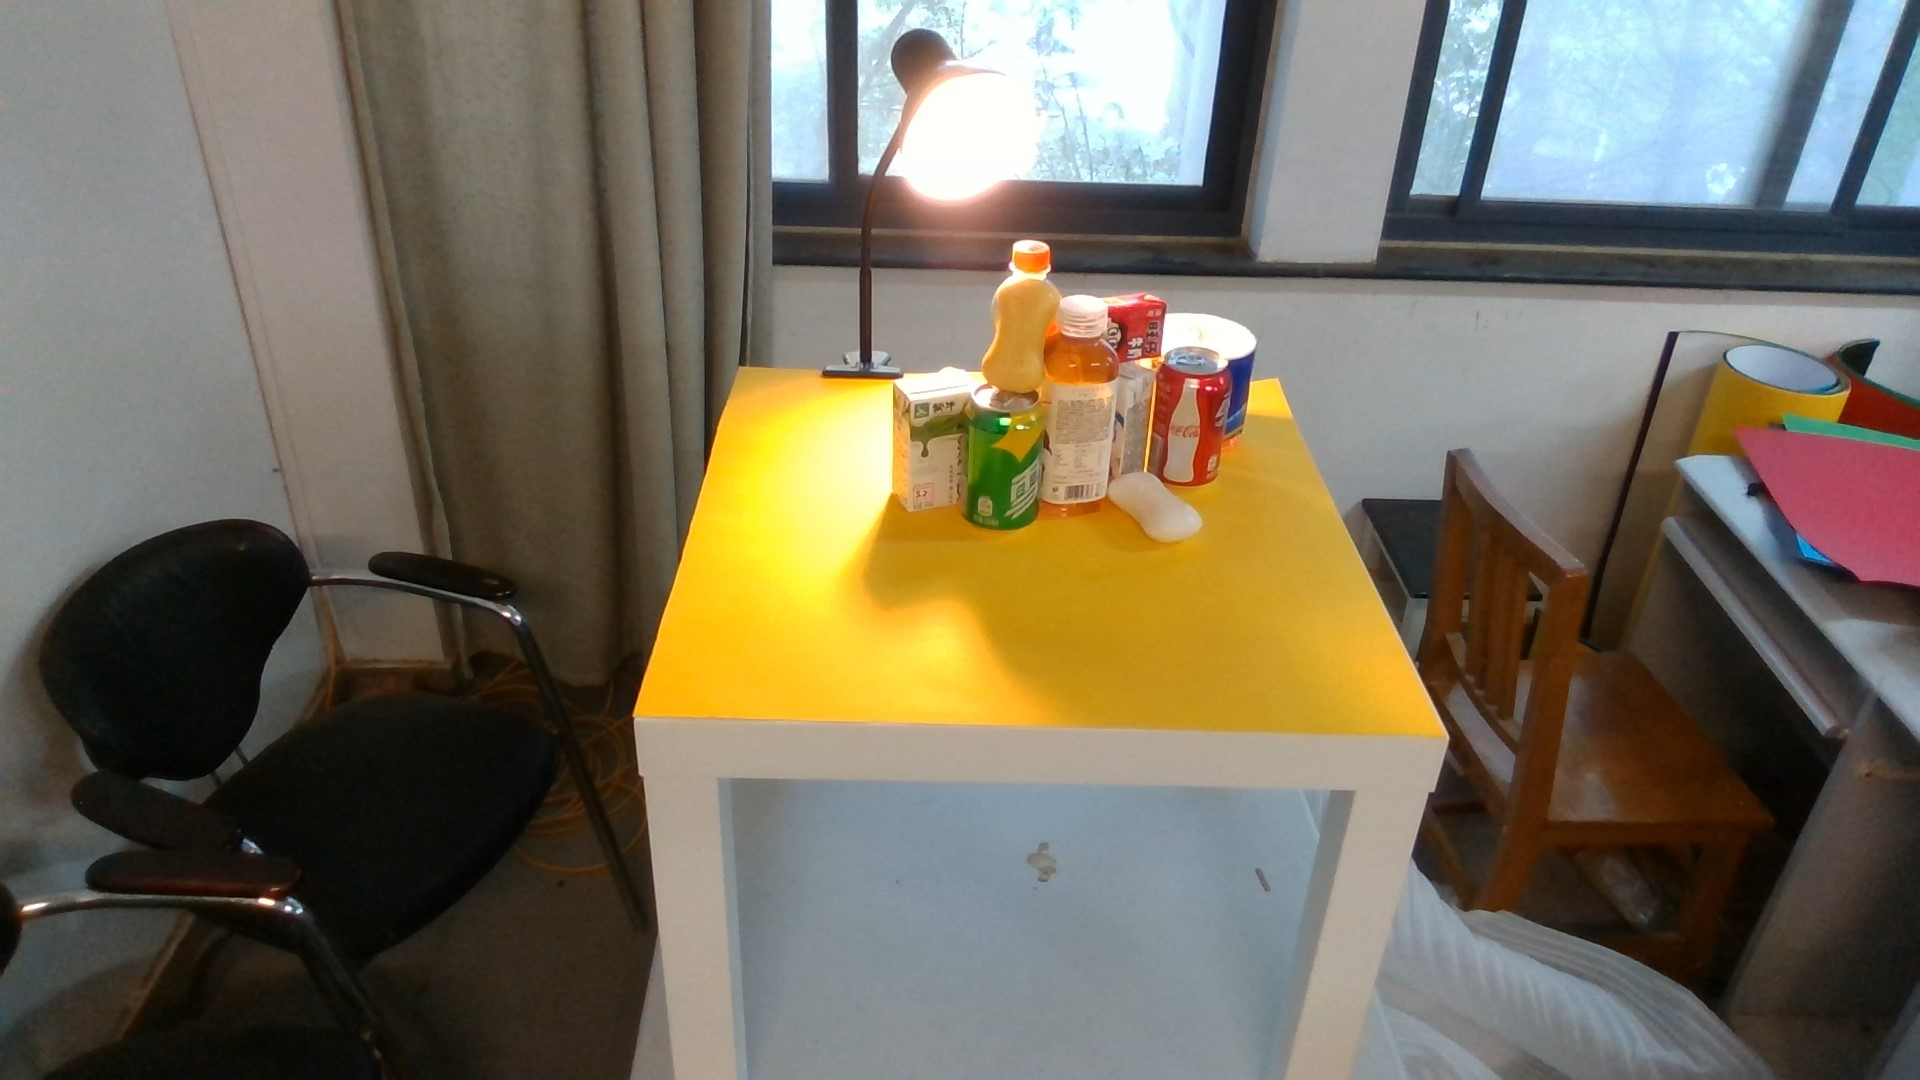BB003: (982, 277, 1058, 392), (1108, 467, 1204, 542)
BB009: (893, 367, 967, 513)
BB012: (1112, 295, 1160, 363)
BB013: (1116, 367, 1153, 464)
CA002: (1234, 320, 1255, 438)
ZC001: (968, 389, 1043, 531)
ZC002: (1153, 345, 1232, 483)
ZC003: (1007, 237, 1055, 277)
ZC012: (1058, 291, 1112, 520)
